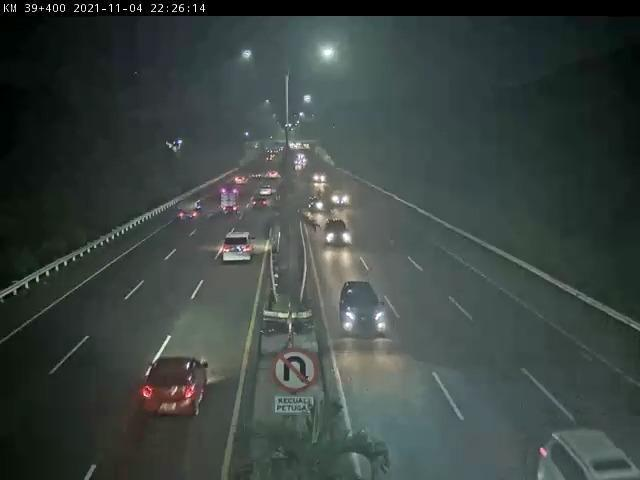car: (546, 433, 617, 480), (152, 356, 203, 414), (337, 285, 389, 338), (221, 233, 258, 266), (330, 218, 357, 256), (333, 192, 350, 211), (307, 197, 328, 210), (262, 186, 273, 200), (255, 200, 267, 210)
truck: (183, 195, 201, 221), (219, 192, 239, 215)
